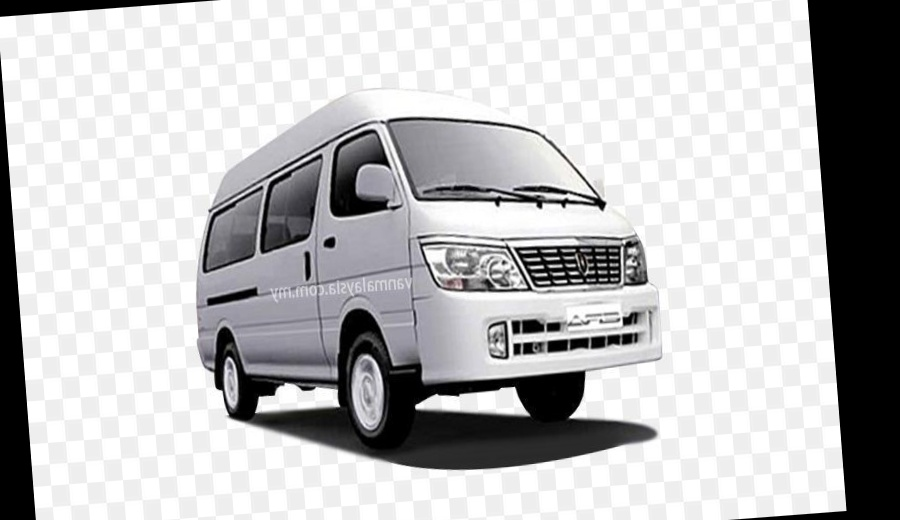van: (168, 67, 673, 435)
